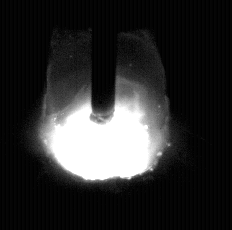arame: (91, 0, 117, 124)
poca: (38, 0, 170, 230)
